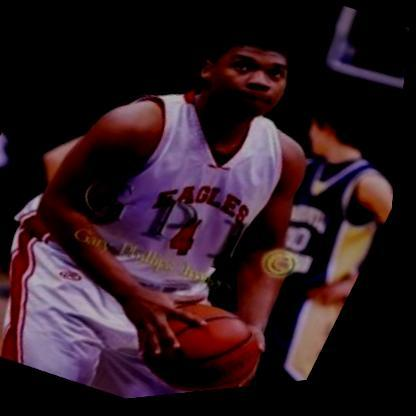basketball: (131, 282, 291, 403)
